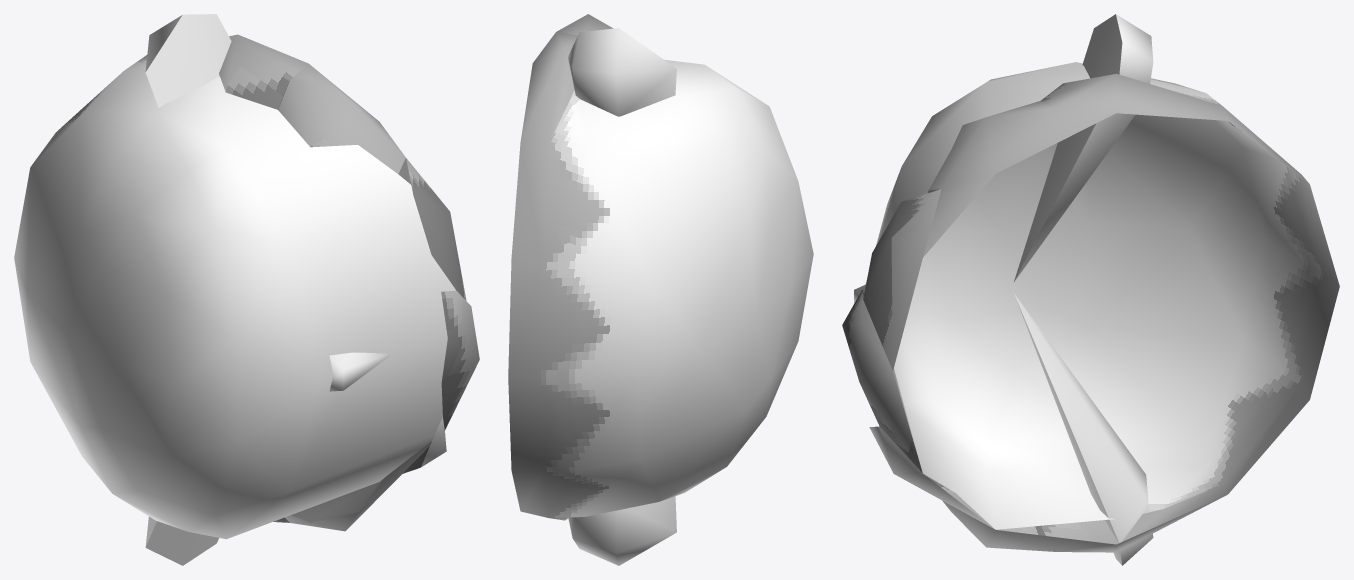
The model's file is girl12b.dae.
The picture shows the model from 3 angles, left to right: view 1: azimuth 30°, elevation 25°; view 2: azimuth 150°, elevation 25°; view 3: azimuth 270°, elevation 25°; orthographic projection. The views are drawn at different scales.
Parts seen in each view (by area): view 1: girl12b; view 2: girl12b; view 3: girl12b.
Boxes of the visible parts, x1,y1,x2,y2 form: girl12b: (14,14,479,565); girl12b: (508,14,813,565); girl12b: (842,14,1339,565).
Size of the model in its own units: 15.5 by 26.71 by 22.11.
3 materials, 1 textured.
